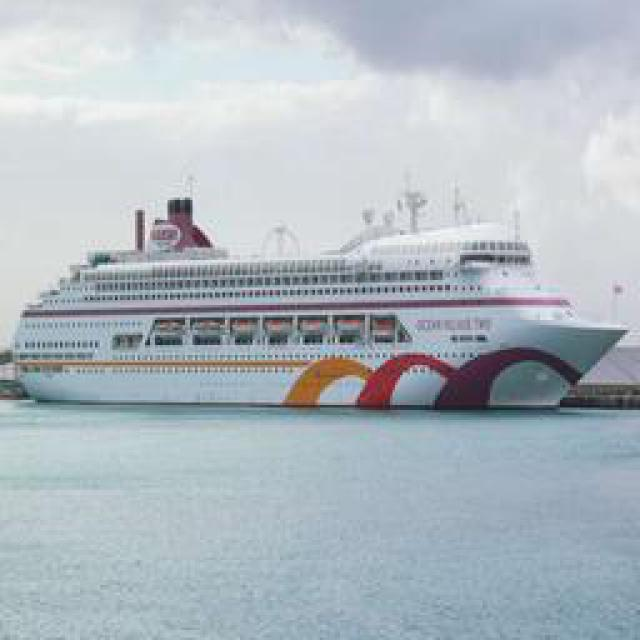Ship: (20, 204, 625, 414)
